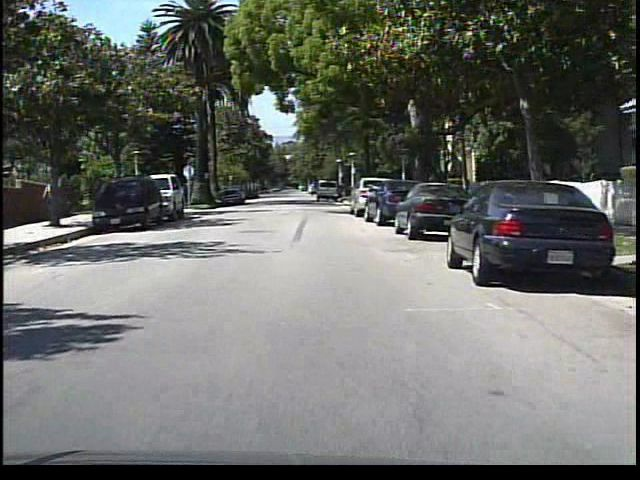person: (40, 176, 59, 224)
